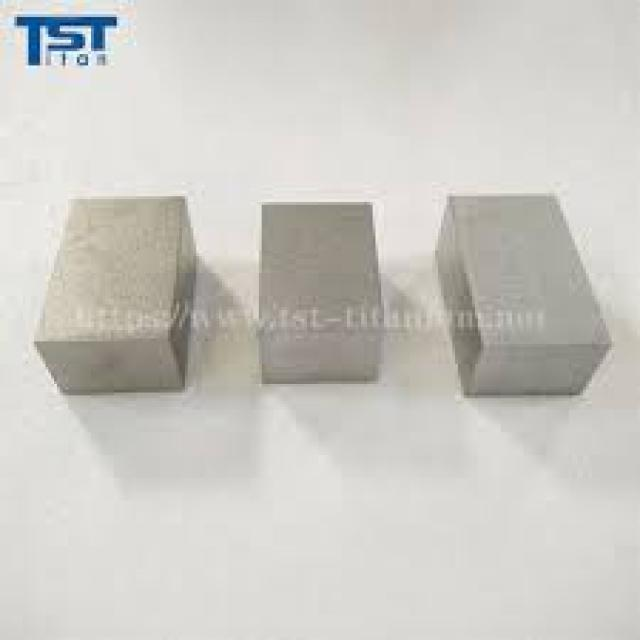Milling: (419, 184, 624, 422), (35, 184, 228, 413), (239, 183, 405, 425)
